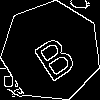B: (26, 26, 79, 83)
